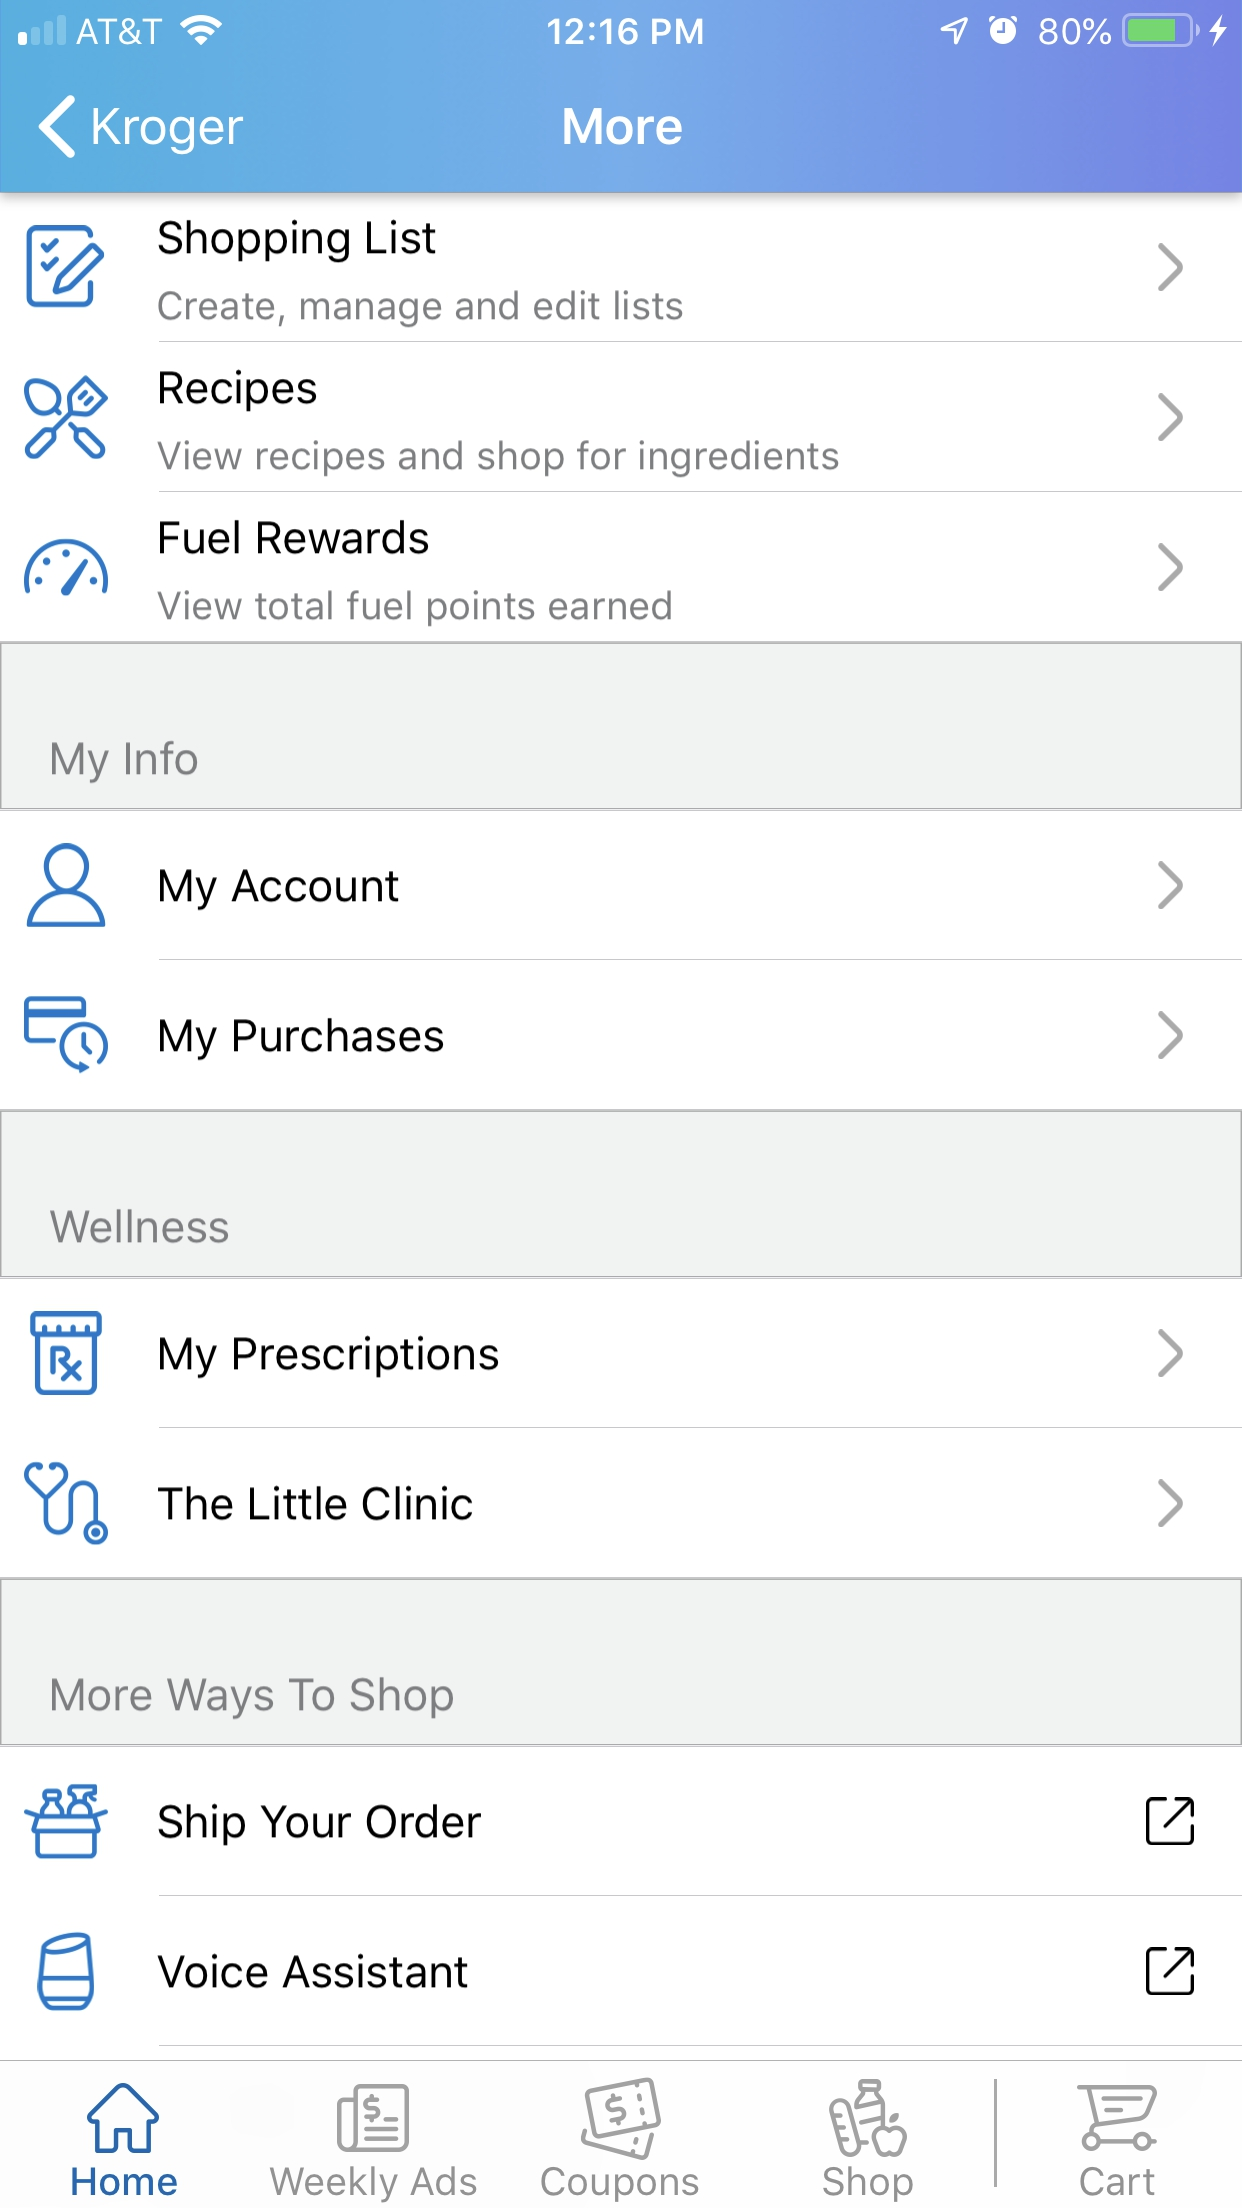Icon: (581, 2076, 663, 2159), (27, 843, 108, 928), (24, 996, 111, 1075), (27, 224, 106, 309), (1077, 2084, 1159, 2152), (86, 2082, 161, 2153), (337, 2084, 409, 2153), (38, 94, 77, 161), (1145, 1796, 1195, 1846), (1145, 1947, 1195, 1996), (1157, 1479, 1184, 1529), (1157, 1010, 1184, 1060), (1157, 243, 1184, 293), (1159, 1328, 1184, 1378), (1159, 860, 1184, 910), (1159, 543, 1184, 593), (1159, 393, 1184, 443)
Image: (24, 375, 111, 459), (24, 1460, 111, 1545), (24, 1783, 111, 1861), (828, 2078, 908, 2158), (30, 1310, 105, 1397), (24, 538, 111, 597), (38, 1930, 96, 2012)
Text: (158, 438, 839, 478), (158, 290, 684, 329), (156, 590, 672, 628), (52, 1676, 455, 1720), (161, 1335, 500, 1380), (159, 1803, 482, 1847), (161, 1018, 444, 1062), (159, 220, 437, 264), (158, 1485, 475, 1523), (158, 1953, 469, 1990), (161, 869, 400, 911), (161, 520, 429, 557), (270, 2166, 478, 2203), (93, 108, 246, 156), (161, 370, 318, 414), (52, 742, 199, 786), (49, 1209, 231, 1244), (541, 2166, 701, 2203), (563, 108, 682, 147), (823, 2166, 914, 2203), (71, 2166, 179, 2196), (1080, 2167, 1156, 2197)
UpperTaskBar: (2, 2, 1242, 49)
